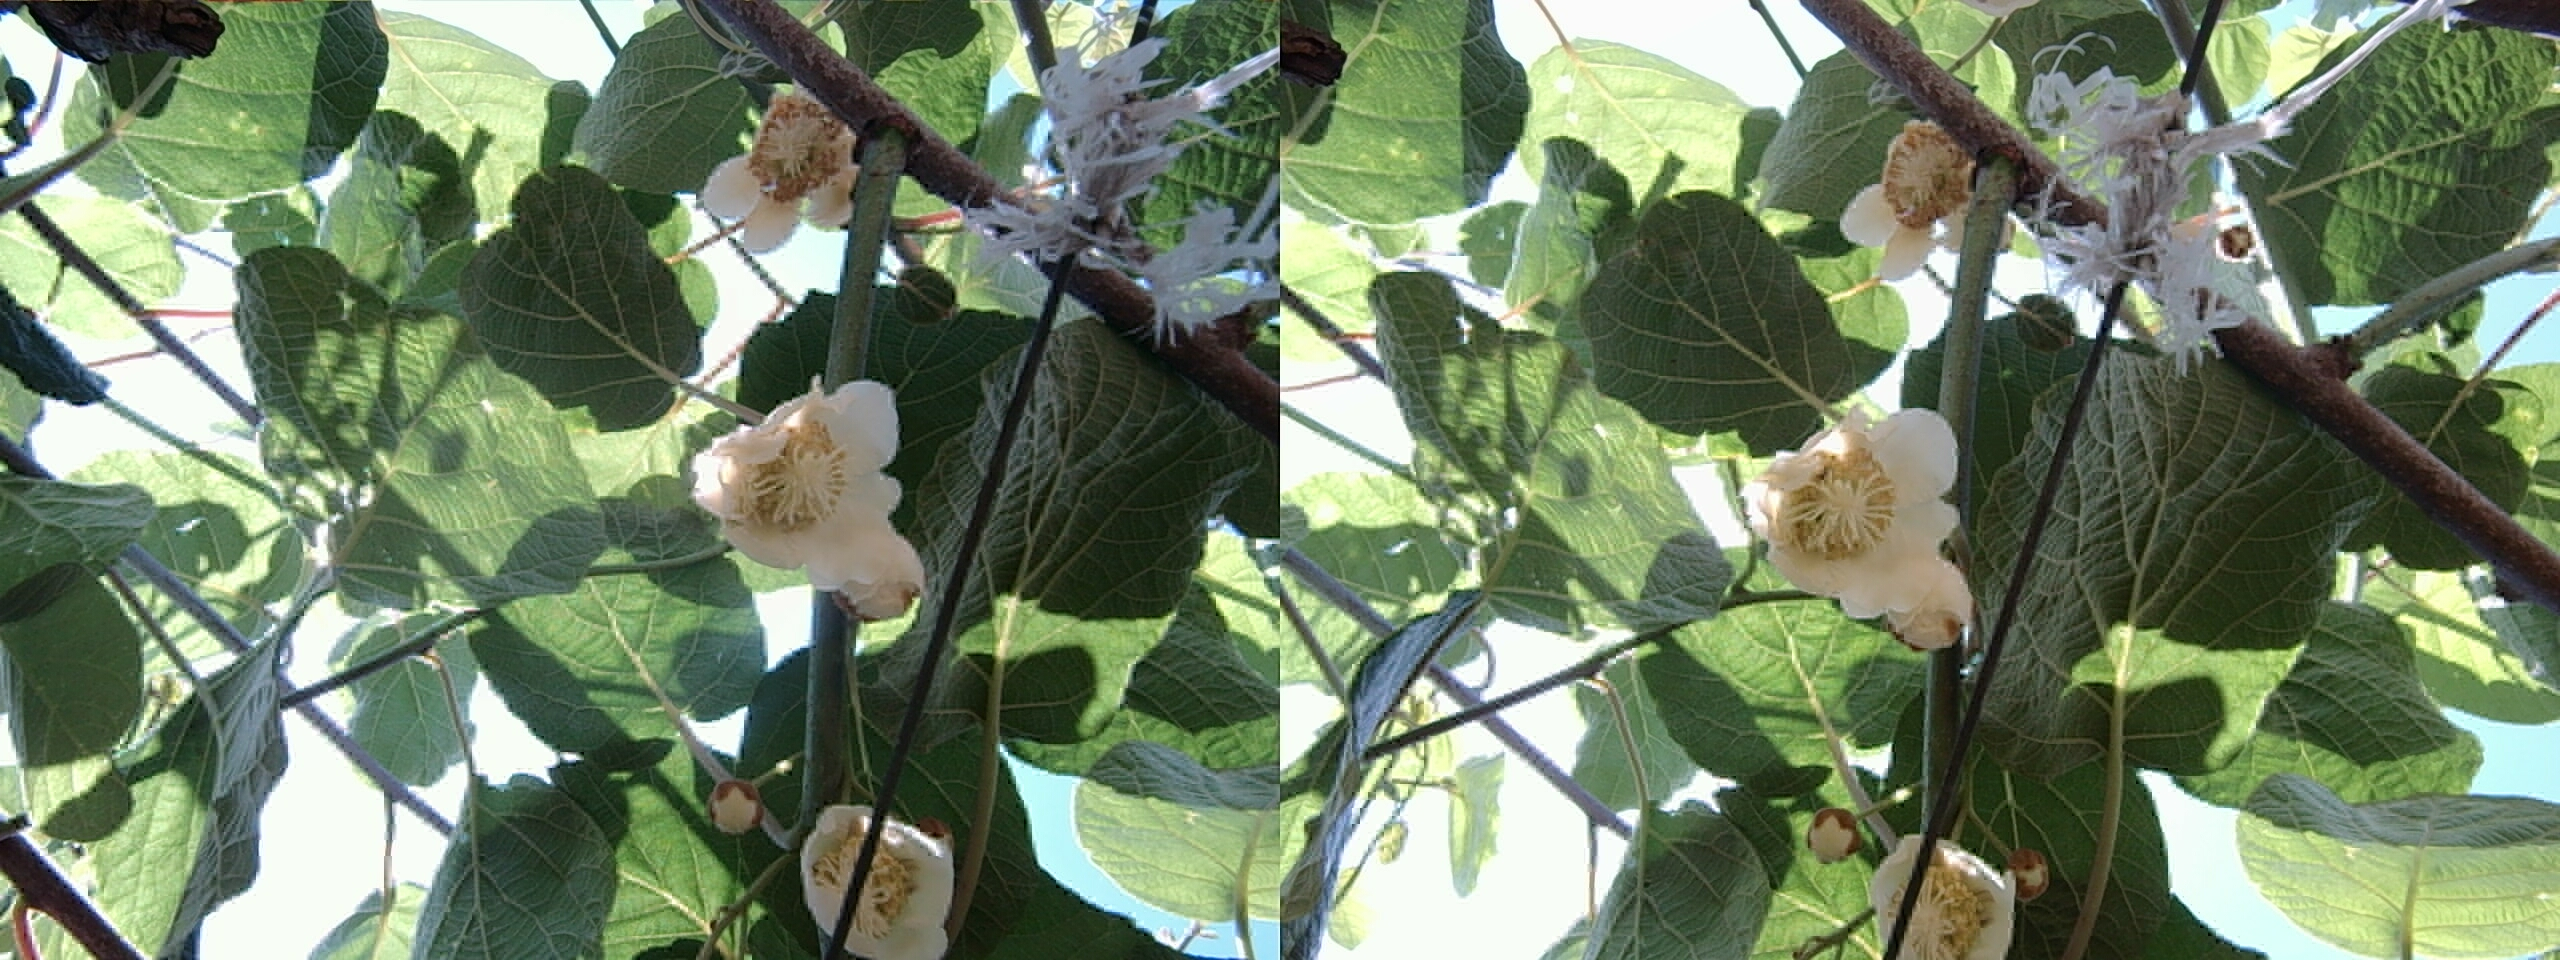flower: (1523, 490, 1740, 696), (446, 462, 642, 669), (661, 536, 790, 647), (1798, 558, 1909, 668)
